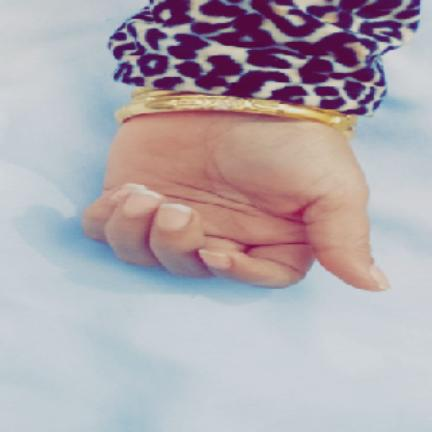Nail: (122, 186, 163, 218), (155, 203, 190, 232), (198, 249, 232, 271), (110, 181, 144, 202), (370, 264, 390, 290)
